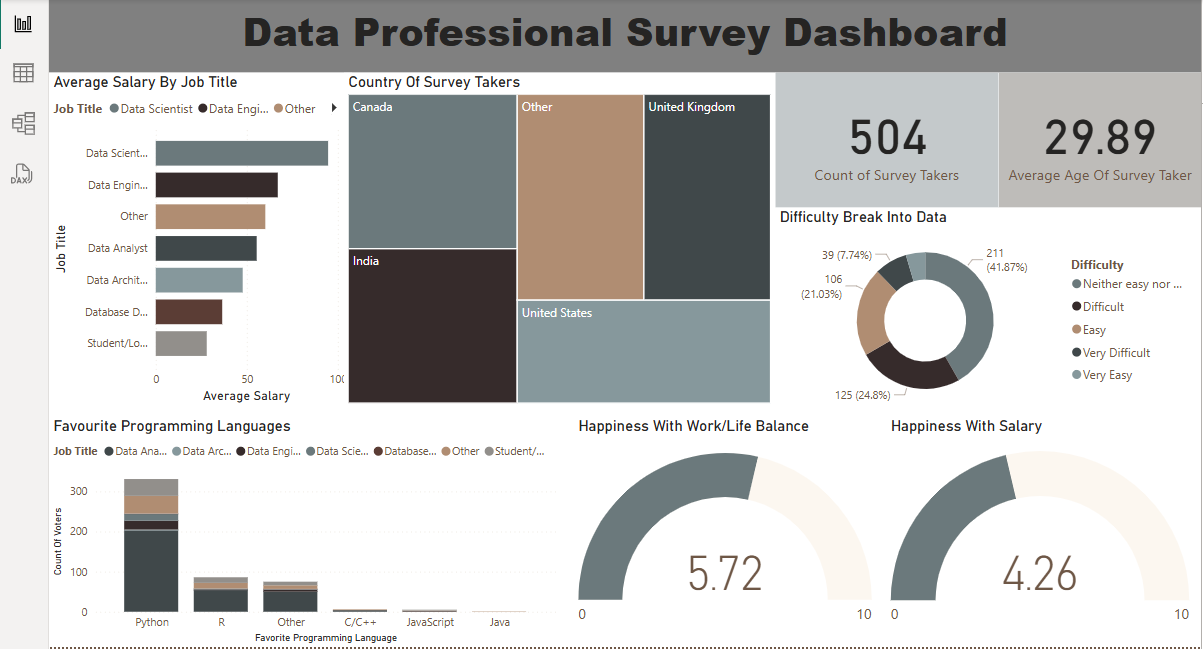

This screenshot's page, from the dashboard's own definition file:
{"tool":"powerbi","page":{"name":"Page 1","canvas":[1280,720],"ordinal":0},"visuals":[{"type":"textbox","box":[0,0,1280.3,81.9],"z":0},{"type":"card","fields":{"Values":["CountNonNull(Data Professional Survey.Unique ID)"]},"box":[806.9,82.3,248.4,149.6],"z":1000},{"type":"card","fields":{"Values":["Avg(Data Professional Survey.Q10 - Current Age)"]},"box":[1055.2,82.3,225,149.6],"z":2000},{"type":"barChart","title":"Average Salary By Job Title","fields":{"Category":["Data Professional Survey.Q1 - Which Title Best Fits your Current Role?.1"],"Y":["Avg(Data Professional Survey.Average Salary)"],"Series":["Data Professional Survey.Q1 - Which Title Best Fits your Current Role?.1"]},"box":[0,81.9,336,372.1],"z":3000},{"type":"columnChart","title":"Favourite Programming Languages","fields":{"Category":["Data Professional Survey.Q5 - Favorite Programming Language.1"],"Y":["CountNonNull(Data Professional Survey.Unique ID)"],"Series":["Data Professional Survey.Q1 - Which Title Best Fits your Current Role?.1"]},"box":[0,463.8,567.9,256.9],"z":4000},{"type":"treemap","title":"Country Of Survey Takers","fields":{"Group":["Data Professional Survey.Q11 - Which Country do you live in?.1"],"Values":["Count(Data Professional Survey.Q11 - Which Country do you live in?.1)"]},"box":[327.7,81.9,479.1,372.1],"z":5000},{"type":"gauge","title":"Happiness With Work/Life Balance","fields":{"Y":["Avg(Data Professional Survey.Q6 - How Happy are you in your Current Position with the following? (Work/Life Balance))"],"MinValue":["Min(Data Professional Survey.Q6 - How Happy are you in your Current Position with the following? (Work/Life Balance))"],"MaxValue":["Max(Data Professional Survey.Q6 - How Happy are you in your Current Position with the following? (Work/Life Balance))"]},"box":[583.2,463.8,336,256.9],"z":6000},{"type":"gauge","title":"Happiness With Salary","fields":{"Y":["Avg(Data Professional Survey.Q6 - How Happy are you in your Current Position with the following? (Salary))"],"MinValue":["Min(Data Professional Survey.Q6 - How Happy are you in your Current Position with the following? (Salary))"],"MaxValue":["Max(Data Professional Survey.Q6 - How Happy are you in your Current Position with the following? (Salary))"]},"box":[930.4,463.8,341.6,255.5],"z":7000},{"type":"donutChart","title":"Difficulty Break Into Data","fields":{"Category":["Data Professional Survey.Q7 - How difficult was it for you to break into Data?"],"Y":["CountNonNull(Data Professional Survey.Q7 - How difficult was it for you to break into Data?)"]},"box":[806.8,231.9,473.5,231.9],"z":8000}]}

Visuals, with their boxes on the page's 1280x720 design canvas (x1, y1, x2, y2). These are canvas units, not pixel positions in the 1203x649 screenshot, which may show the page scaled, cropped or inside an application window:
textbox: (0,0,1280,82)
card - CountNonNull(Data Professional Survey.Unique ID): (807,82,1055,232)
card - Avg(Data Professional Survey.Q10 - Current Age): (1055,82,1280,232)
"Average Salary By Job Title" barChart: (0,82,336,454)
"Favourite Programming Languages" columnChart: (0,464,568,721)
"Country Of Survey Takers" treemap: (328,82,807,454)
"Happiness With Work/Life Balance" gauge: (583,464,919,721)
"Happiness With Salary" gauge: (930,464,1272,719)
"Difficulty Break Into Data" donutChart: (807,232,1280,464)
